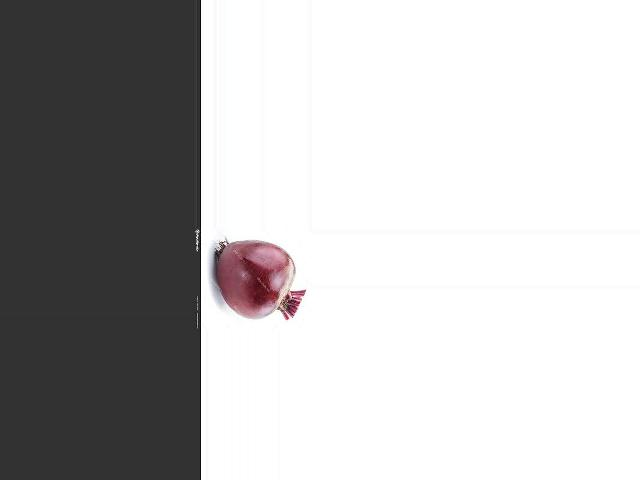beet: (216, 240, 305, 320)
